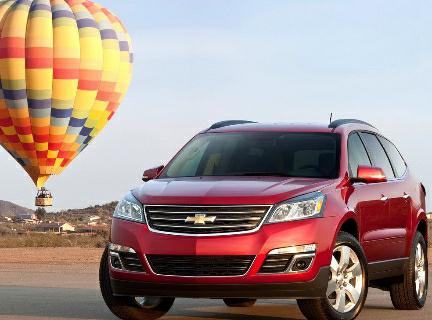雪佛兰-Traverse: (99, 117, 430, 320)
